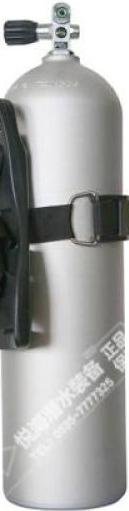cylinder: (0, 1, 129, 511)
